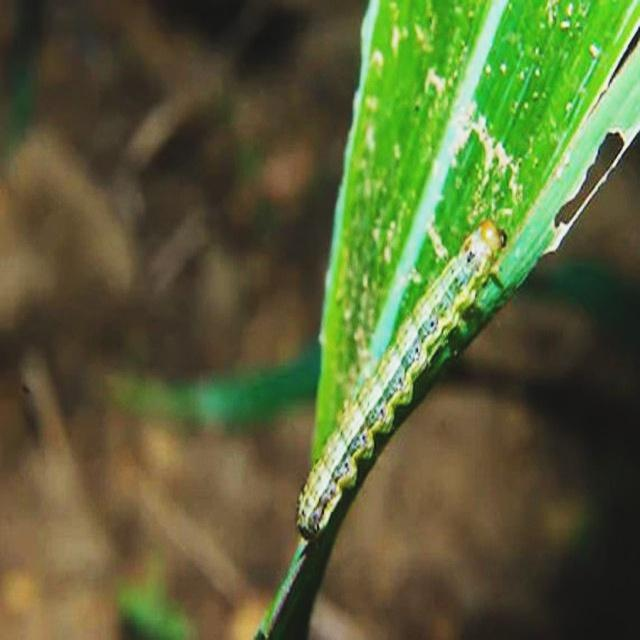Plaga: (298, 221, 508, 531)
